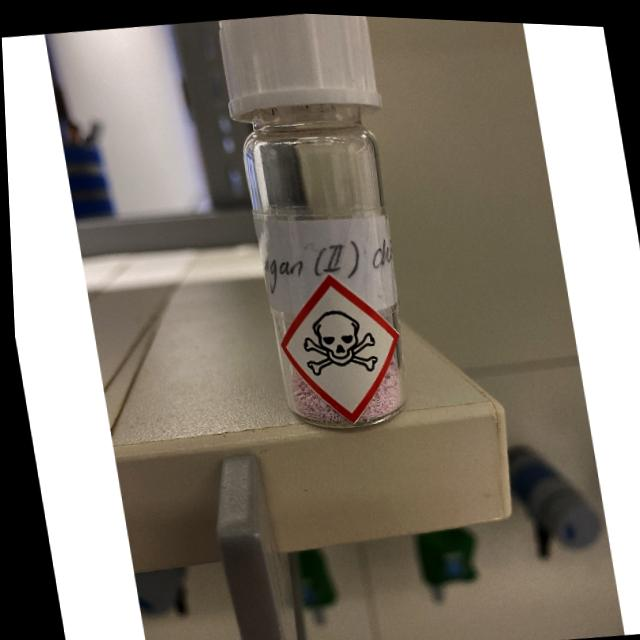acute toxicity: (265, 261, 410, 430)
